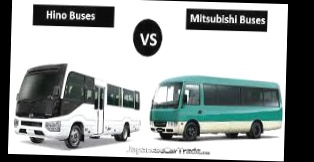bus: (12, 63, 142, 150), (150, 73, 284, 143)
